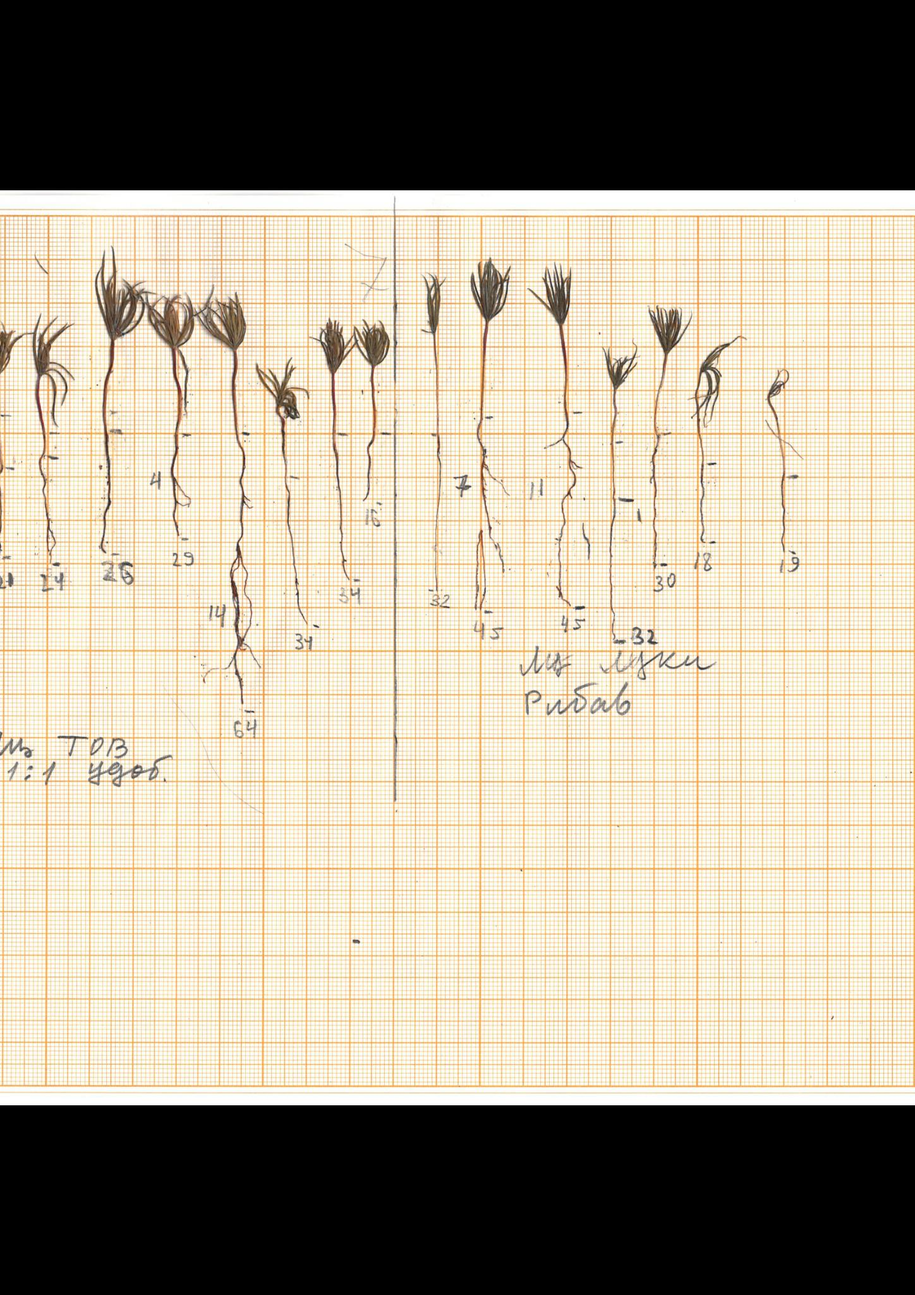pinus: (196, 289, 265, 707), (87, 245, 149, 555), (464, 258, 516, 613), (528, 262, 578, 608), (256, 354, 313, 626), (309, 316, 359, 594), (149, 285, 203, 542), (601, 329, 644, 639), (27, 310, 77, 565), (647, 301, 694, 568), (691, 329, 747, 546), (419, 273, 450, 590), (0, 318, 32, 562), (761, 365, 801, 553), (354, 319, 389, 499)
